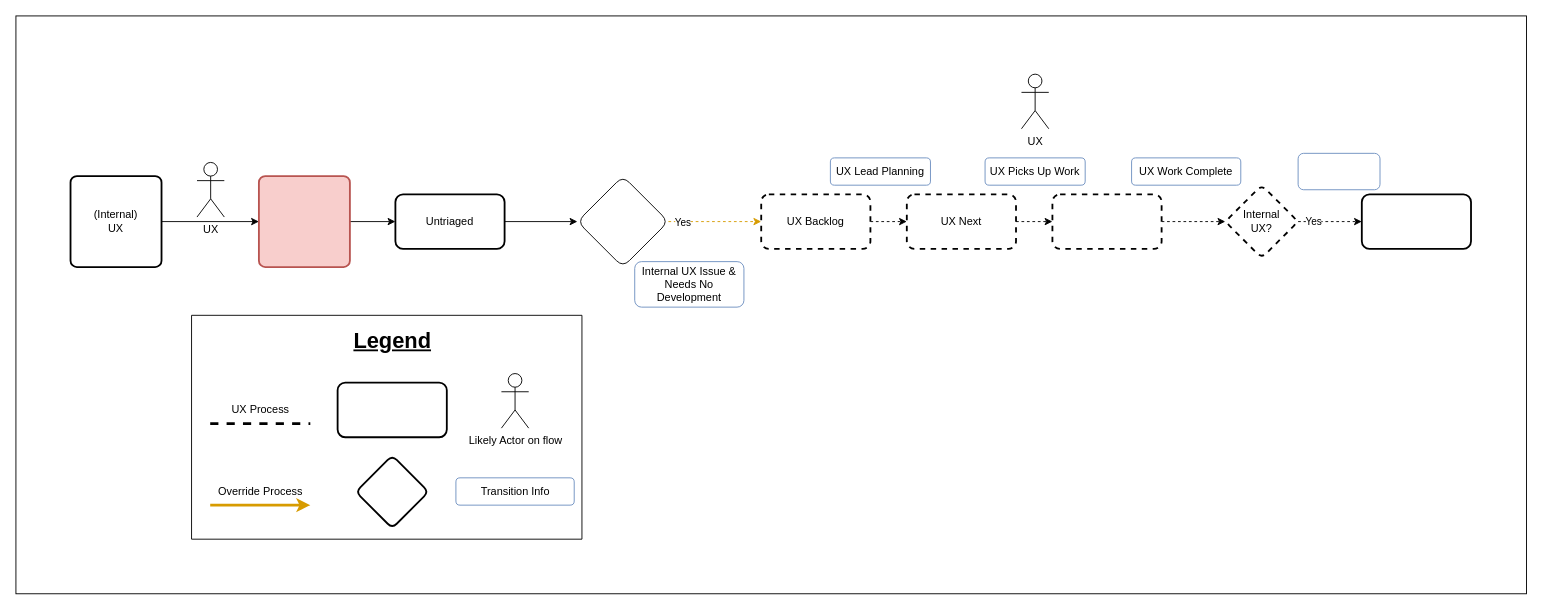
Some shapes in this 1542 by 610 pixel diagram are drawn without their labels. The shapes that lost their labels are listed below. From the top down, each one's box as (x1, y1, x2, y2) in pixels, then its label:
(1297, 152, 1380, 190): Internal UX Work Complete
(258, 175, 350, 268): Automatically added to the Dashboard Board
(576, 175, 668, 267): Manual Intervention?
(1051, 193, 1162, 249): UX In Progress
(1360, 193, 1471, 249): Done (Issue is closed)
(336, 381, 447, 438): Status Name
(354, 454, 429, 529): Decision
